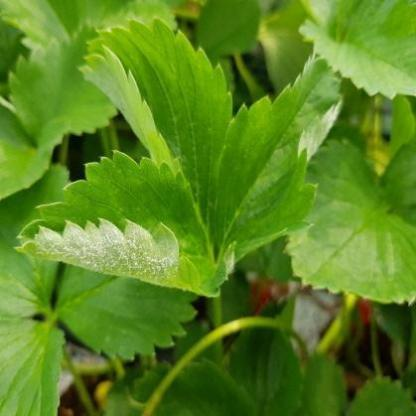Strawberry_Powdery_Mildew_Leaf: (12, 148, 220, 297), (213, 50, 344, 262)
